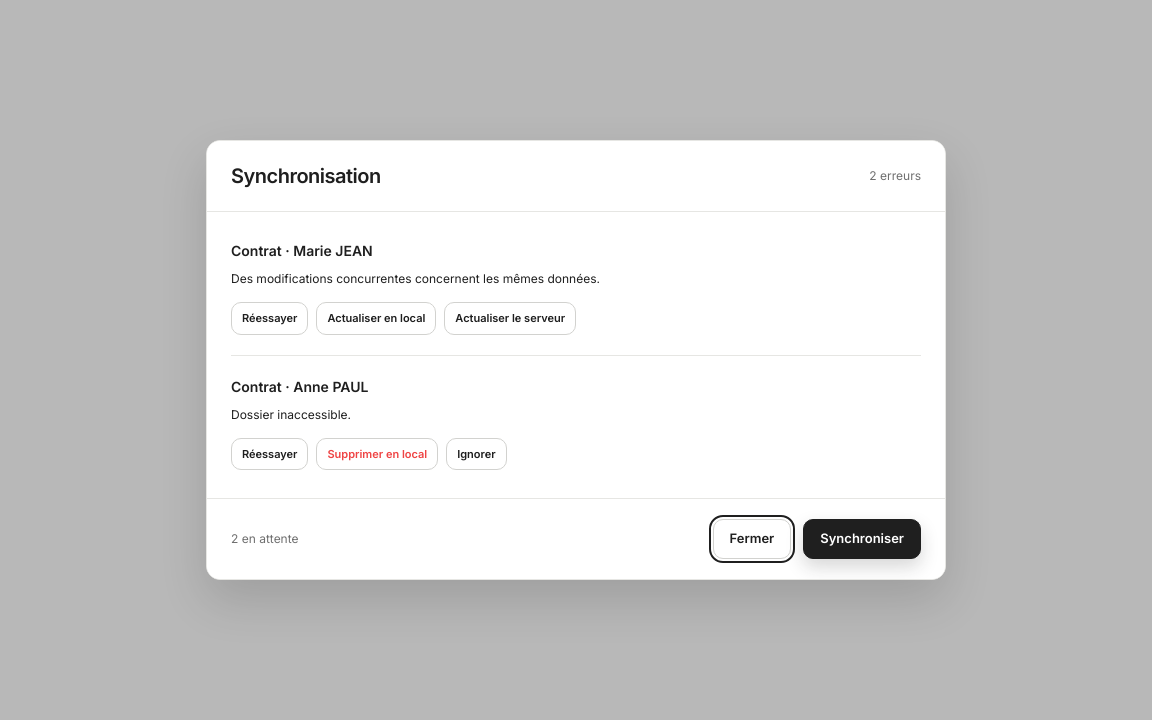
refreshes restored data even when resuming synchronization loses the connection
The image size is (1152, 720).
Click the button "Actualiser en local". click: [376, 318]
box: [316,302,436,334]
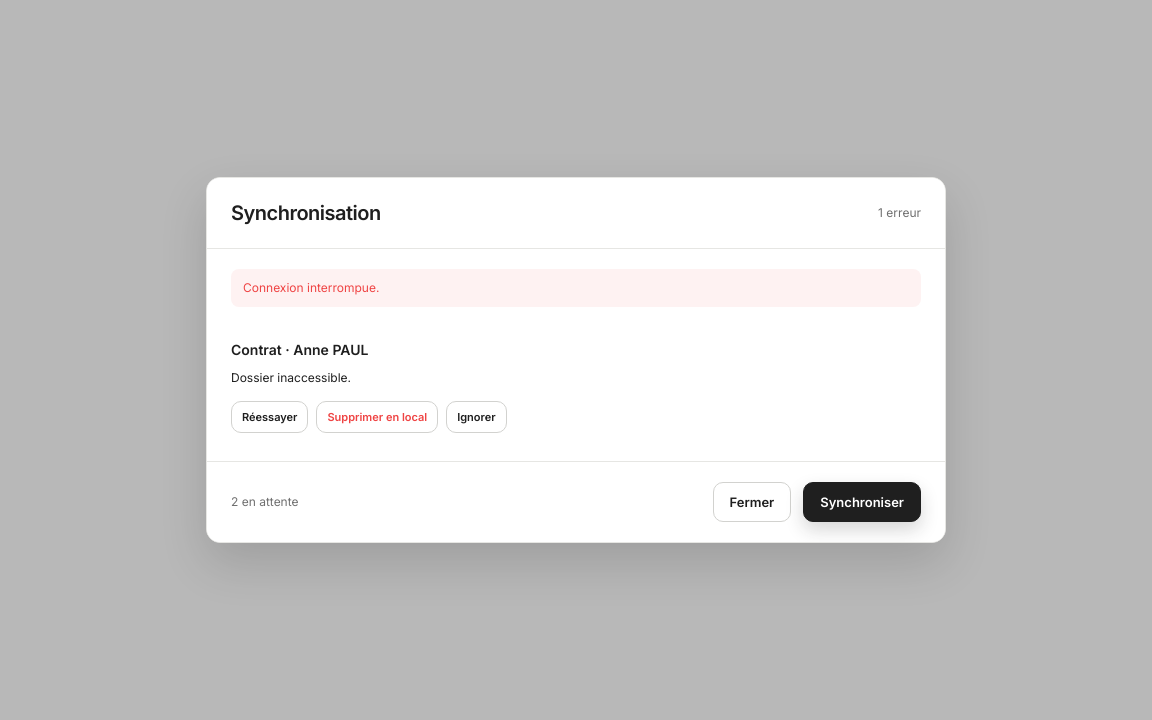
Expected: the element "Contrat · Anne PAUL" is shown, [231,341,506,433]
Expected: the heading "Contrat · Marie JEAN" is gone
Expected: the message reads "Connexion interrompue.", [243,280,379,295]
